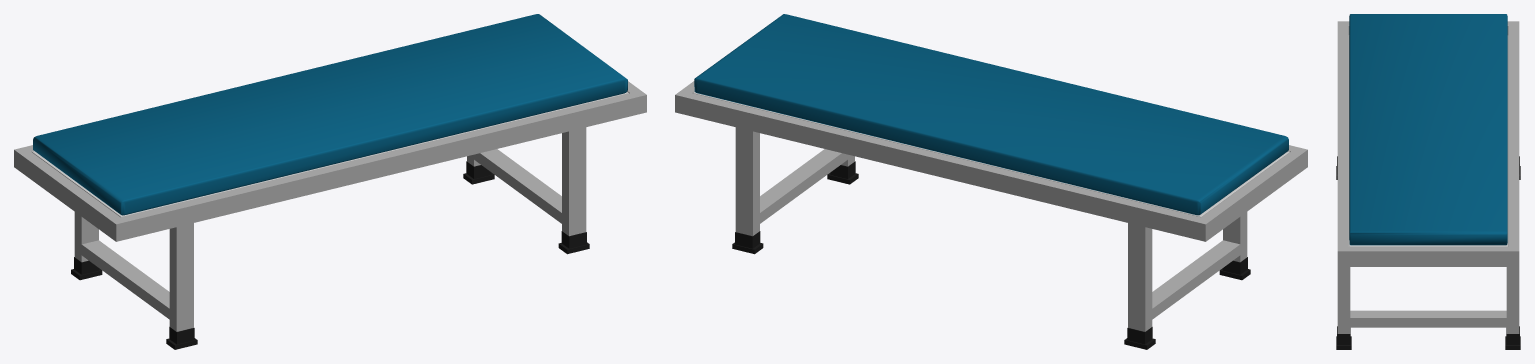
The model's file is attender_cot_plain1-optimized.glb.
The picture shows the model from 3 angles, left to right: view 1: azimuth 30°, elevation 25°; view 2: azimuth 150°, elevation 25°; view 3: azimuth 270°, elevation 25°; orthographic projection. The views are drawn at different scales.
Parts seen in each view (by area): view 1: Bed, Cot; view 2: Bed, Cot; view 3: Bed, Cot.
Boxes of the visible parts, x1,y1,x2,y2 form: Bed: (33,14,627,215); Cot: (14,81,646,349); Bed: (694,14,1288,215); Cot: (675,81,1307,349); Bed: (1349,14,1507,245); Cot: (1336,21,1520,349).
Bounding box in the file's own units: 3.66 × 1.02 × 1.24.
